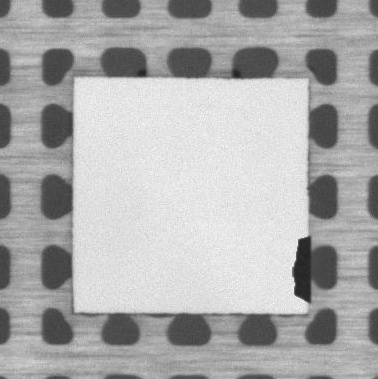DIE_BROKEN: (289, 234, 313, 303)
